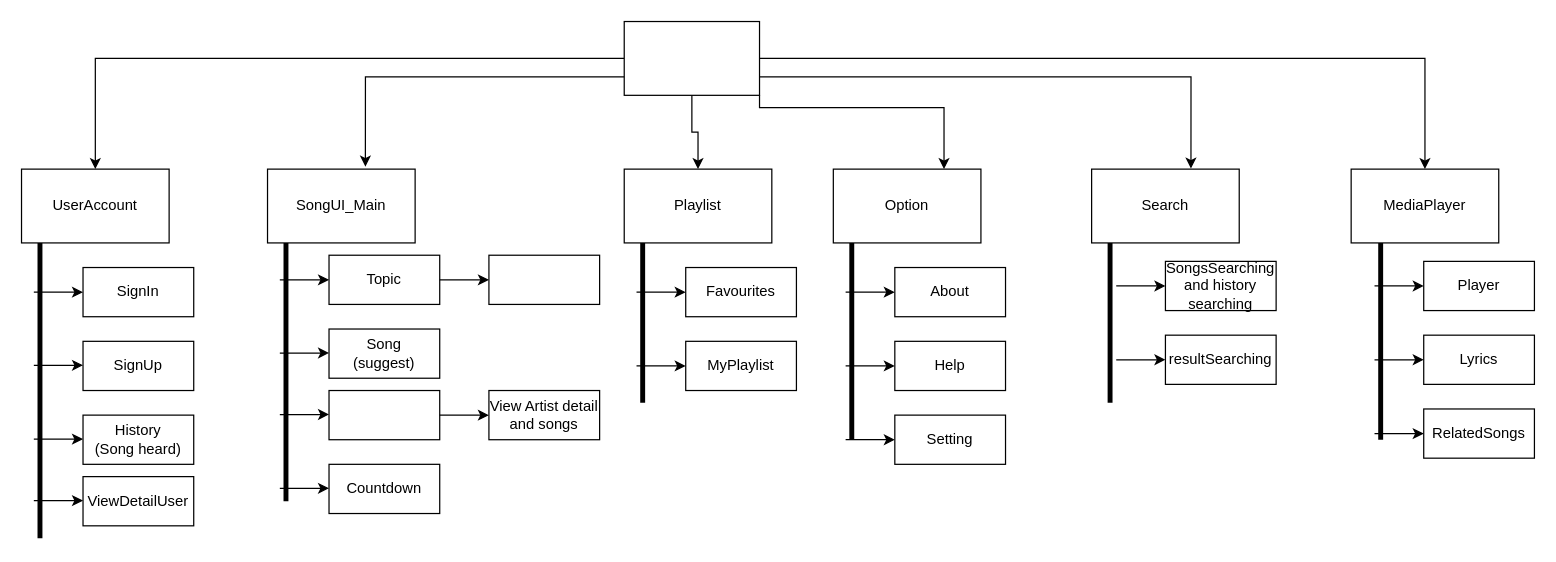
Image size: 1556x562. Some labels were removed from this diagram. The shapes that lost their labels are listed below. From the top down, each one's box as (x1, y1, x2, y2) in pixels, then its label:
(623, 20, 760, 95): Home
(488, 254, 600, 304): Songs (by topic)
(328, 389, 440, 440): Artist
